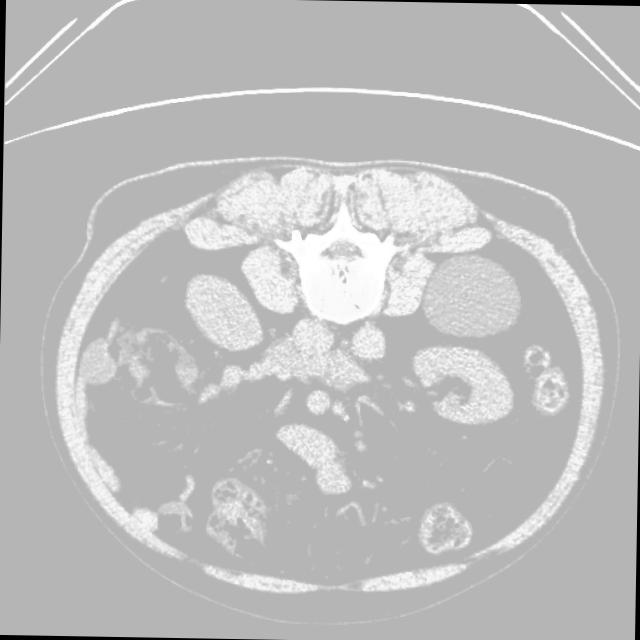cysts: (48, 154, 612, 605)
